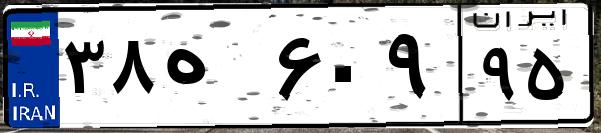0: (330, 28, 385, 110)
3: (57, 26, 110, 100)
5: (525, 38, 570, 115)
6: (270, 28, 330, 110)
8: (110, 28, 158, 98)
9: (385, 28, 445, 110), (475, 38, 525, 113)
ه: (158, 20, 270, 120)
